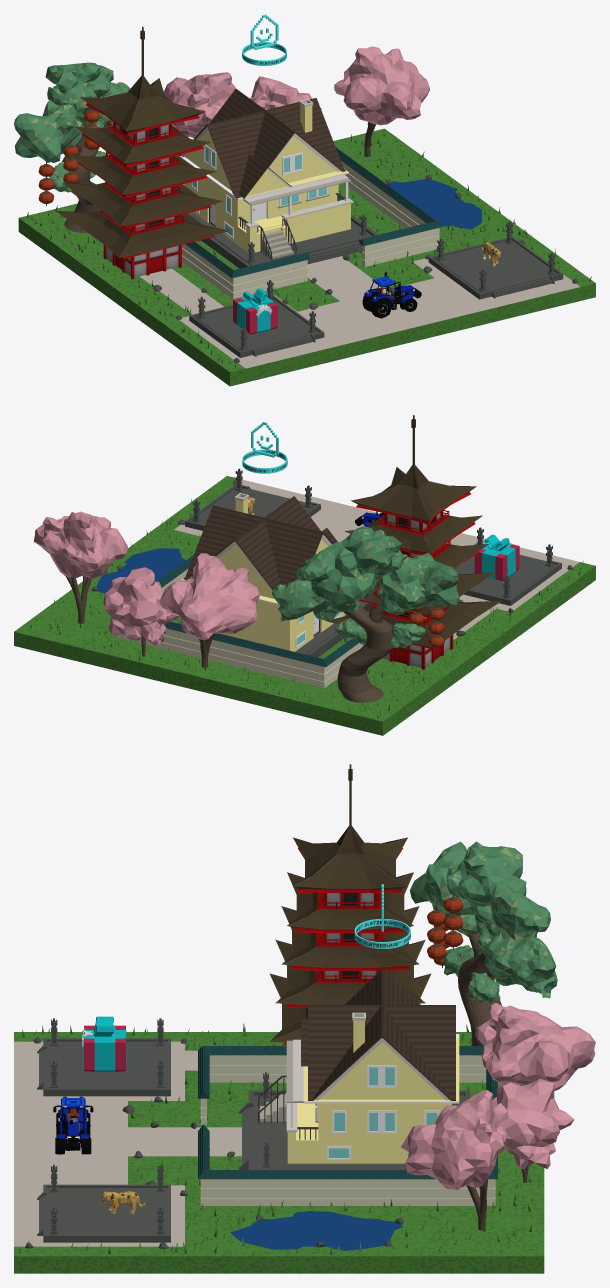
The picture shows the model from 3 angles, top to bottom: view 1: azimuth 30°, elevation 25°; view 2: azimuth 150°, elevation 25°; view 3: azimuth 270°, elevation 25°; orthographic projection. The views are drawn at different scales.
Visible parts, largest first — view 1: Cube.005, Cube.1555, OBJRANDOM_GIANT_PRESENT, VEHICLES_TRACTOR, TYPE_PREMIUM; view 2: Cube.005, Cube.1555, OBJRANDOM_GIANT_PRESENT, TYPE_PREMIUM; view 3: Cube.005, Cube.1555, OBJRANDOM_GIANT_PRESENT, VEHICLES_TRACTOR, TYPE_PREMIUM.
Part boxes in pixels (x1=…): Cube.005: x1=14, y1=26, x2=595, y2=386; Cube.1555: x1=178, y1=89, x2=353, y2=259; OBJRANDOM_GIANT_PRESENT: x1=233, y1=288, x2=277, y2=334; VEHICLES_TRACTOR: x1=362, y1=272, x2=421, y2=318; TYPE_PREMIUM: x1=242, y1=14, x2=286, y2=65; Cube.005: x1=14, y1=415, x2=595, y2=735; Cube.1555: x1=181, y1=493, x2=345, y2=651; OBJRANDOM_GIANT_PRESENT: x1=474, y1=534, x2=519, y2=580; TYPE_PREMIUM: x1=242, y1=421, x2=287, y2=473; Cube.005: x1=14, y1=764, x2=595, y2=1273; Cube.1555: x1=258, y1=969, x2=459, y2=1163; OBJRANDOM_GIANT_PRESENT: x1=82, y1=1016, x2=126, y2=1071; VEHICLES_TRACTOR: x1=53, y1=1096, x2=93, y2=1154; TYPE_PREMIUM: x1=354, y1=884, x2=410, y2=948.
Size of the model in its own units: 4528 by 2693 by 4389.
43 materials, 6 textured.
